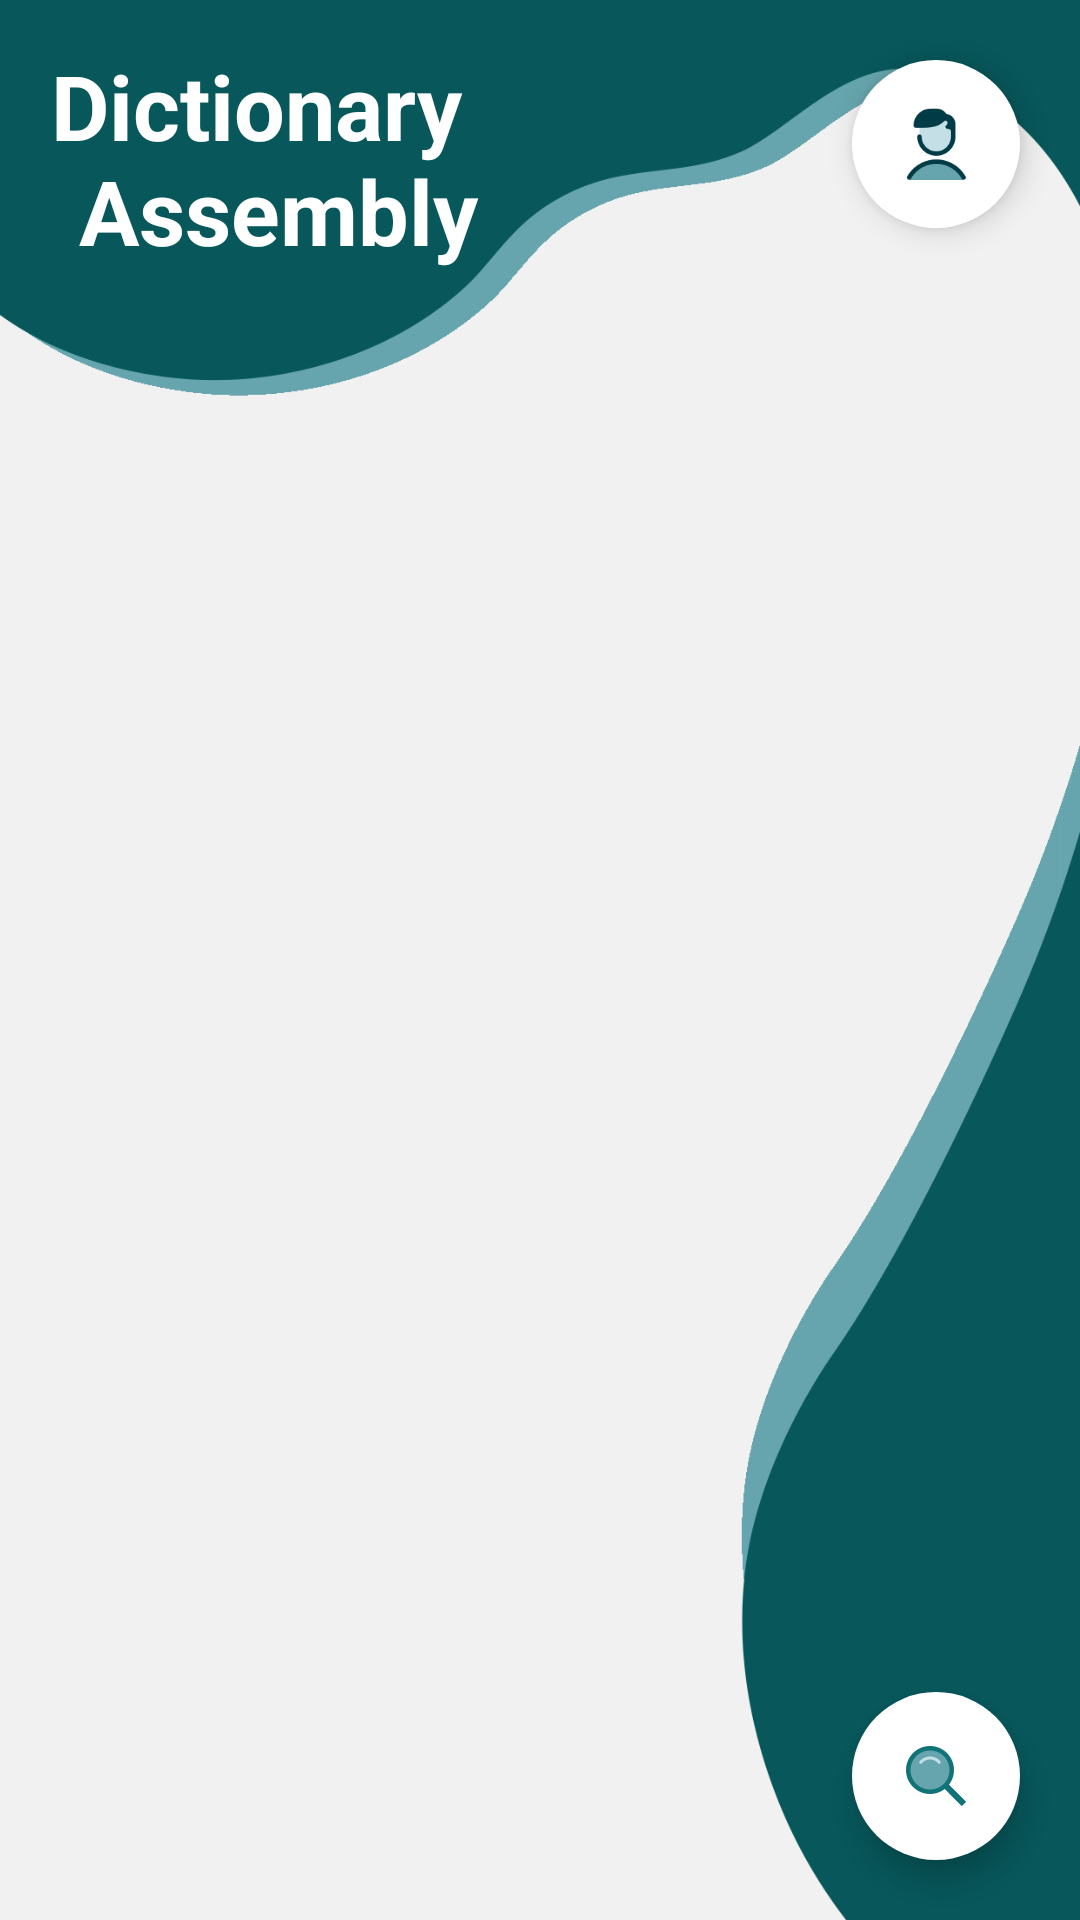

Icon click points for this 1080x1920 phone screenshot, format (x,y):
search: (936,1776)
user: (936,144)
